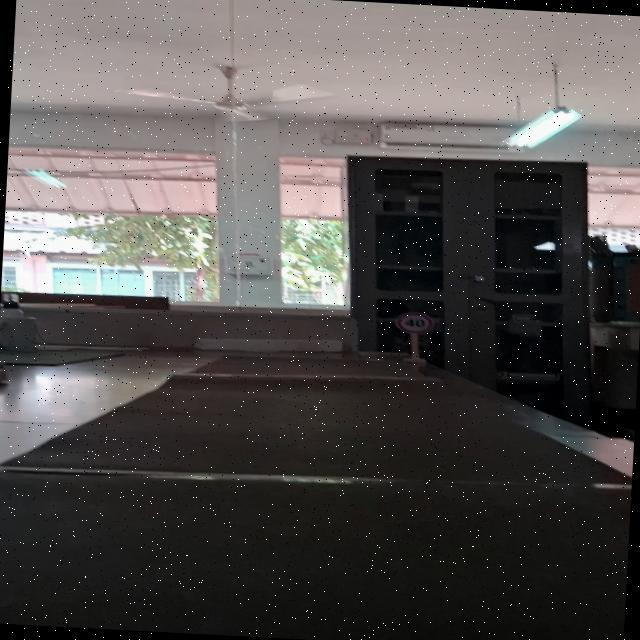Speed40: (393, 310, 436, 336)
